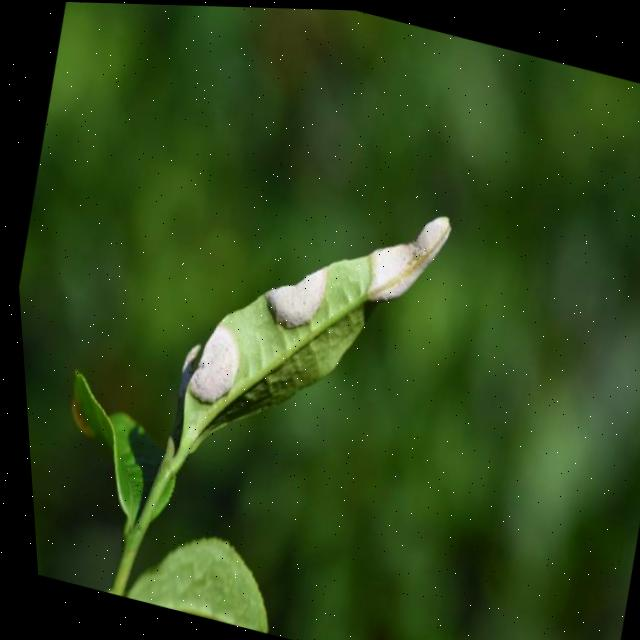Tea cake: (354, 186, 465, 314), (174, 308, 248, 404), (251, 245, 333, 326)
